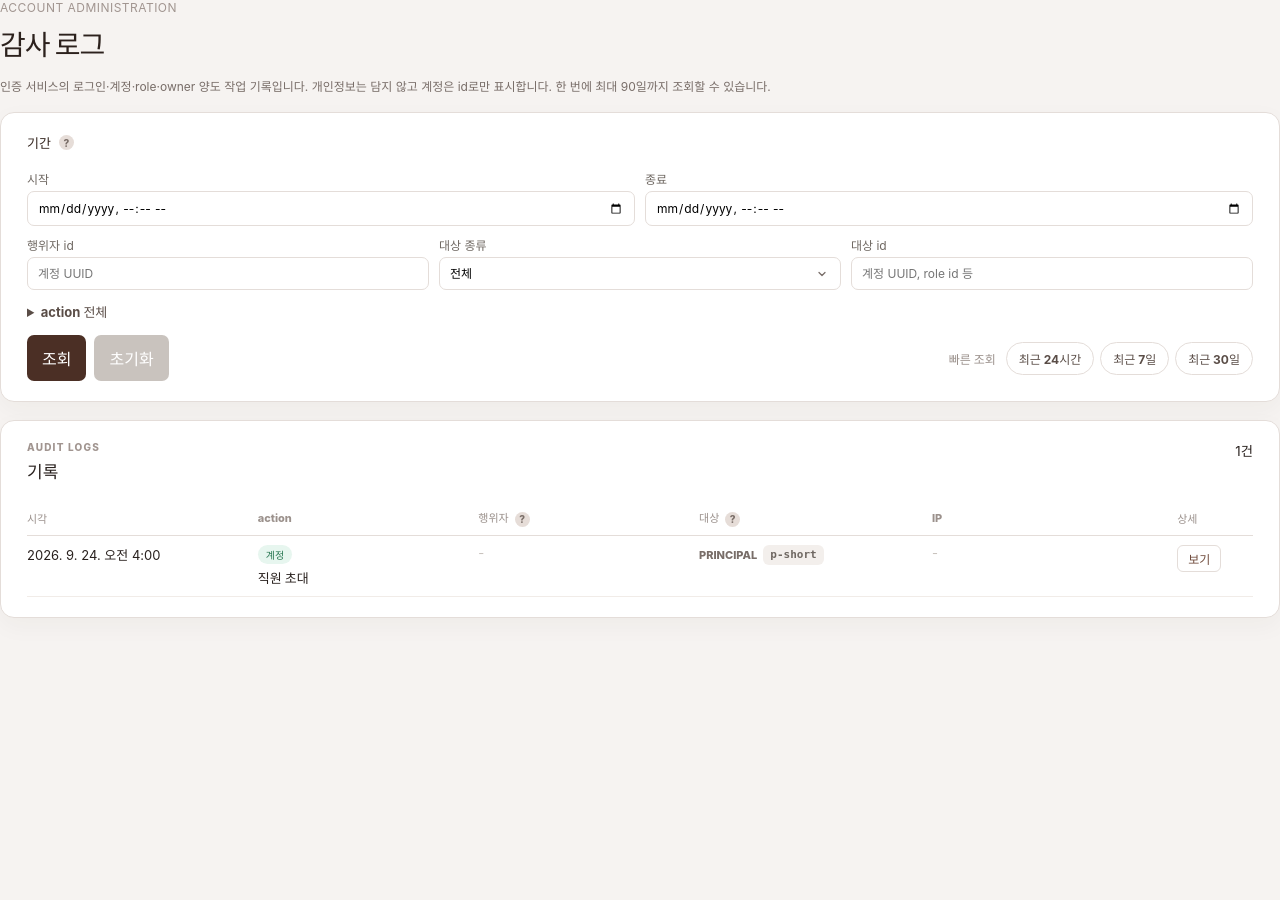
Test: AuditLogsPage › detail이 없는 기록은 추가 정보가 없다고 안내하고 Esc로 닫힌다
The image size is (1280, 900).
Click the button with aria-label "직원 초대 상세 보기". click: (1199, 558)
box: [1177,544,1221,572]
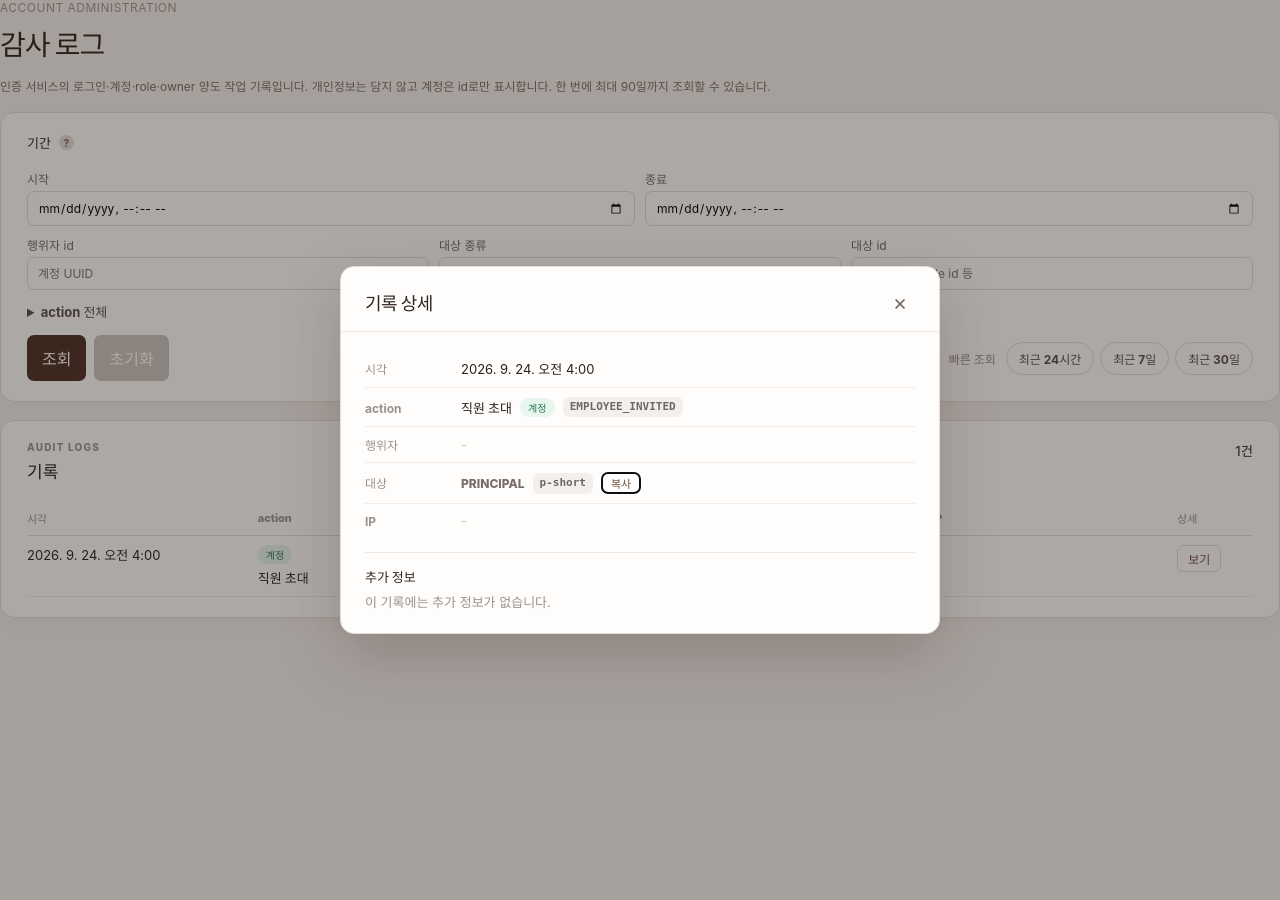
Expected: the text "이 기록에는 추가 정보가 없습니다." is shown, [365,594,551,610]
Press Escape
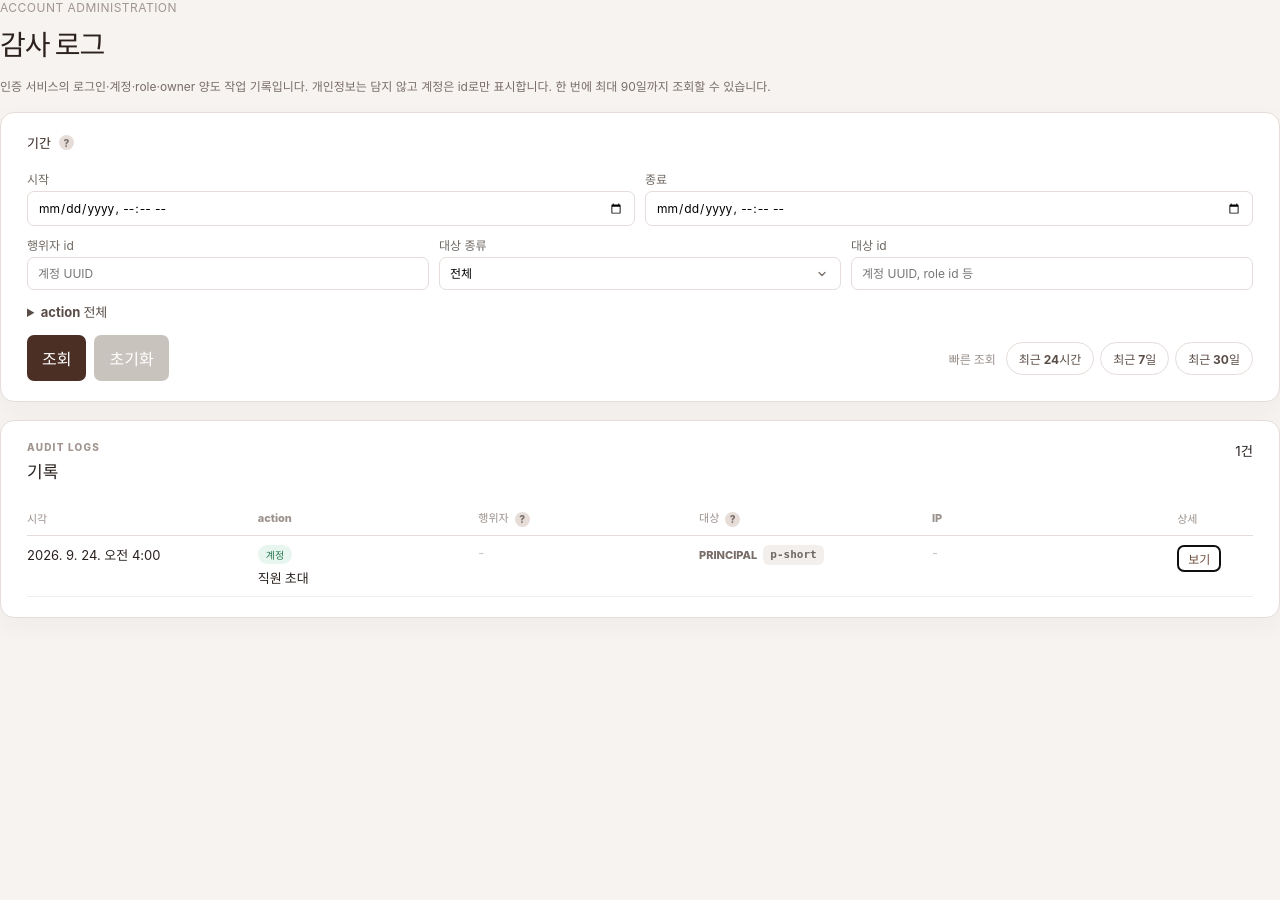
Expected: the dialog is gone
